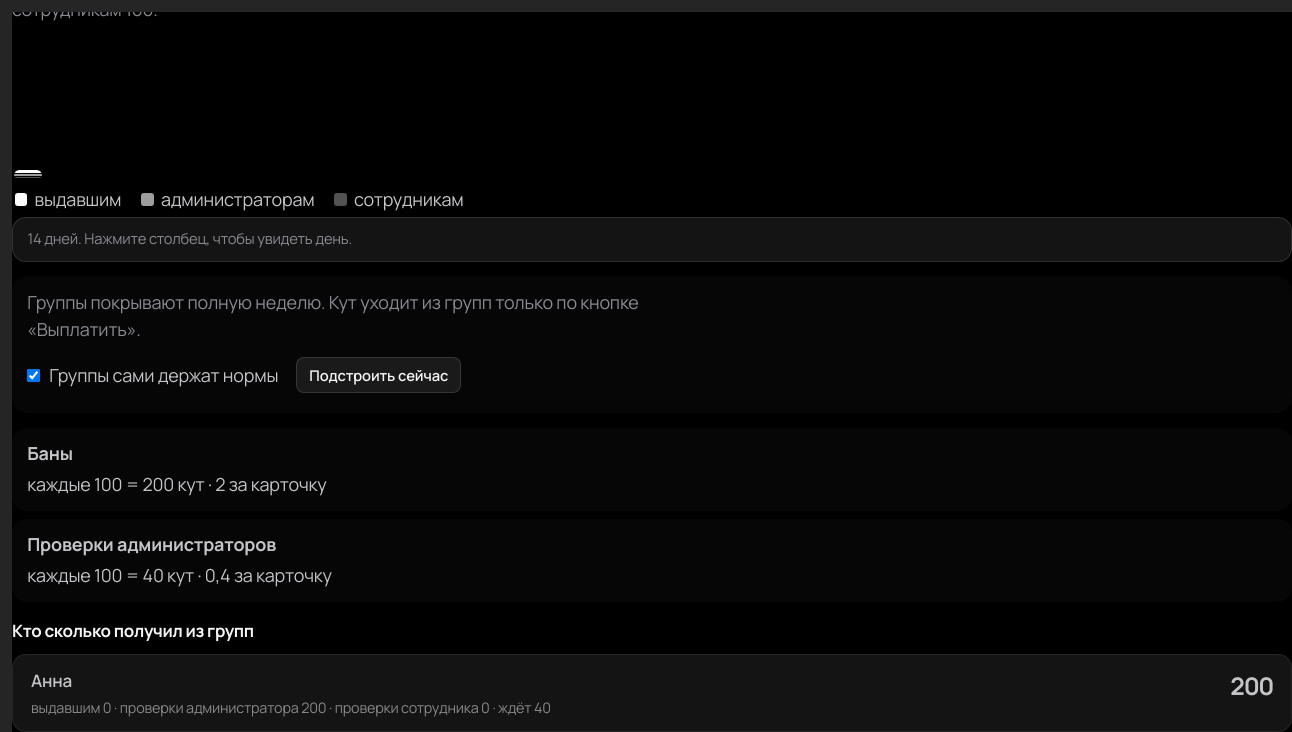
it: PurseDesk › asks the groups to retune the norms
(page scrolled)
Expected: the text "Баны" is shown, [27,442,73,466]
What coordinates should you click on to do the following:
click the button "Подстроить сейчас"
I would click on:
 (379, 375)
Its box is [296,357,461,393].
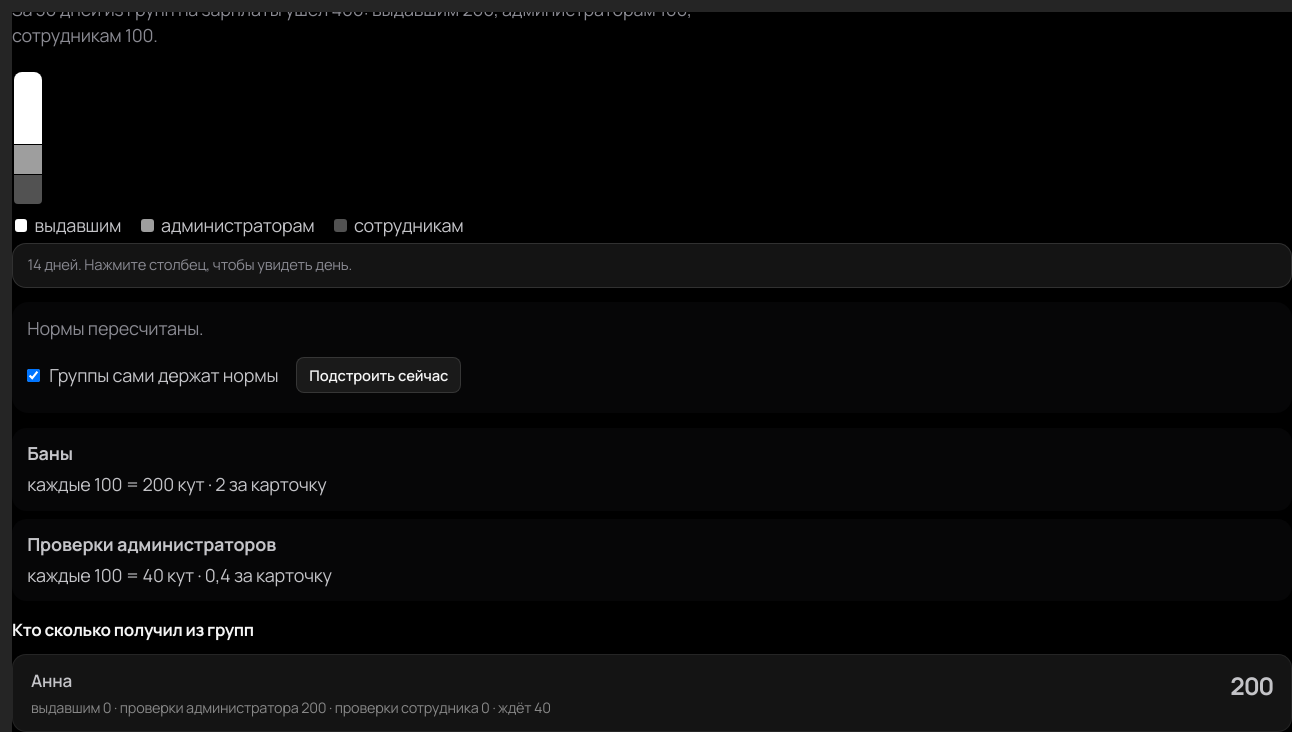
Result: the text "Нормы пересчитаны." is shown at [27,316,203,340]
